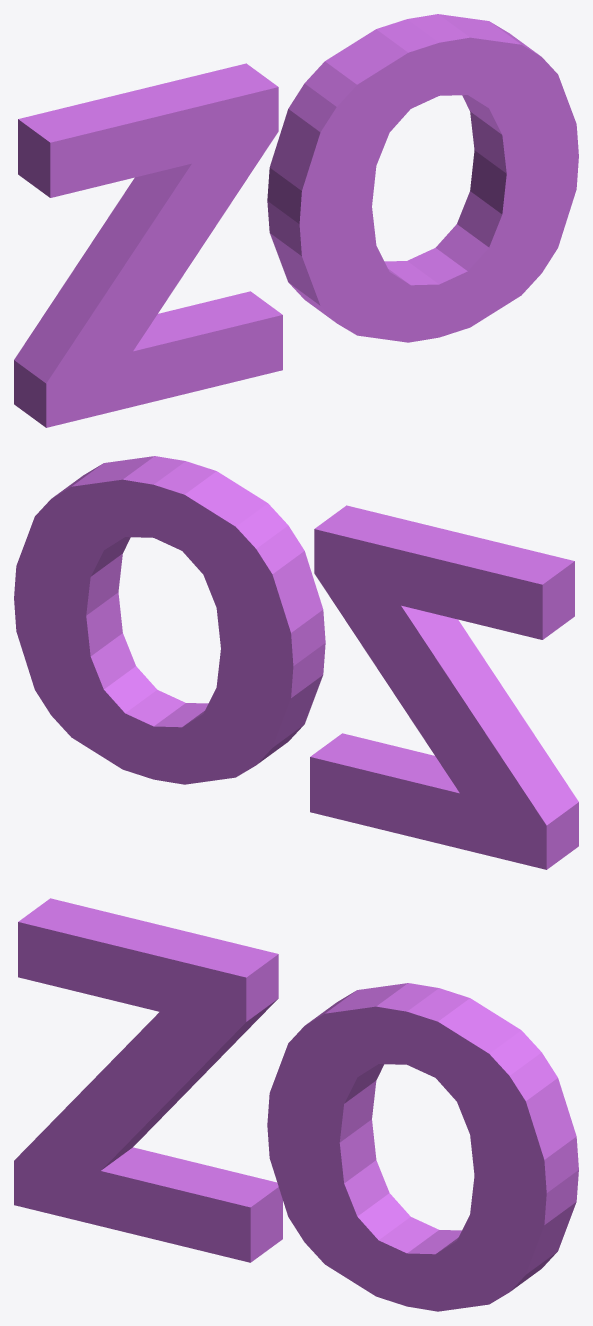
Rendered from suku_besar_zo.glb.
The picture shows the model from 3 angles, top to bottom: view 1: azimuth 30°, elevation 25°; view 2: azimuth 150°, elevation 25°; view 3: azimuth 330°, elevation 25°; orthographic projection.
Visible parts, largest first — view 1: geometry_0; view 2: geometry_0; view 3: geometry_0.
Part boxes in pixels (x1,y1,x2,y2): geometry_0: (14,14,578,427); geometry_0: (14,456,578,869); geometry_0: (14,898,578,1311).
Bounding box in the file's own units: 14.3 × 7.56 × 1.5.
